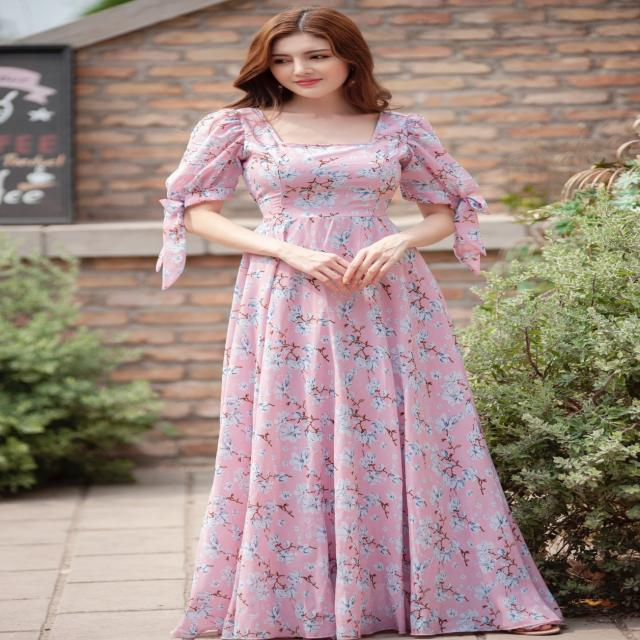clothes: (158, 104, 538, 640)
